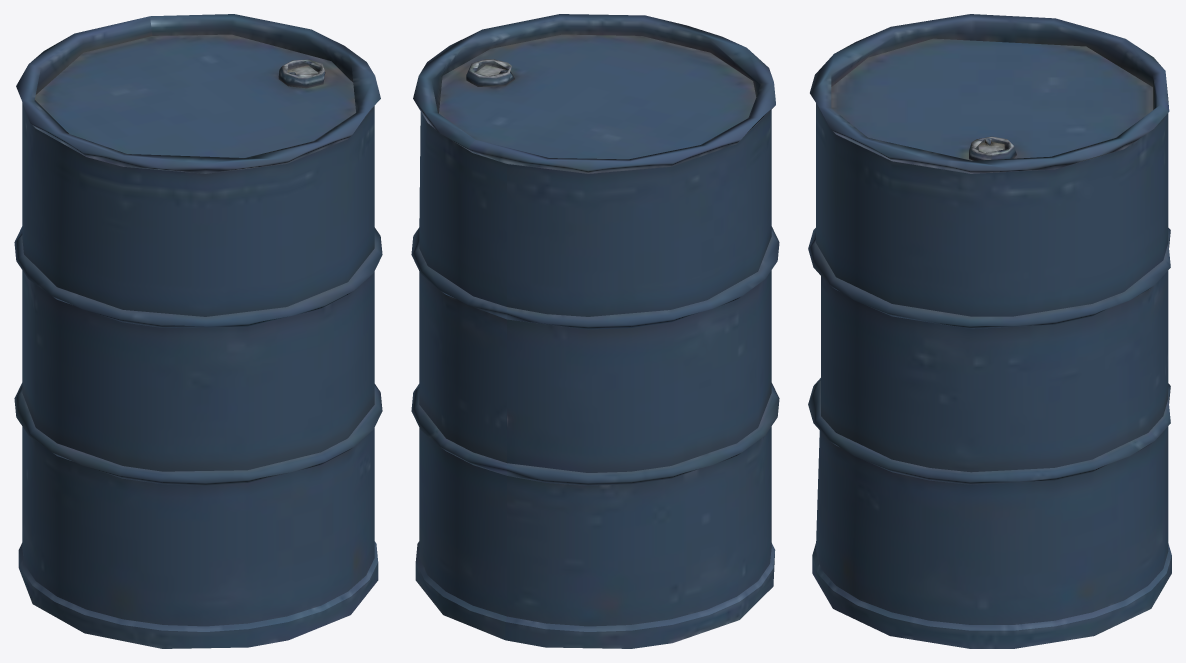
File: barrel_03.glb
The picture shows the model from 3 angles, left to right: view 1: azimuth 30°, elevation 25°; view 2: azimuth 150°, elevation 25°; view 3: azimuth 270°, elevation 25°; orthographic projection.
Visible parts, largest first — view 1: barrel_03; view 2: barrel_03; view 3: barrel_03.
Boxes of the visible parts, box(x1,y1,x2,y2) form: barrel_03: box(14, 14, 382, 648); barrel_03: box(411, 14, 779, 648); barrel_03: box(808, 14, 1171, 648).
Bounding box in the file's own units: 0.634 × 0.9305 × 0.6311.
Materials: 1 (1 with a texture image).
